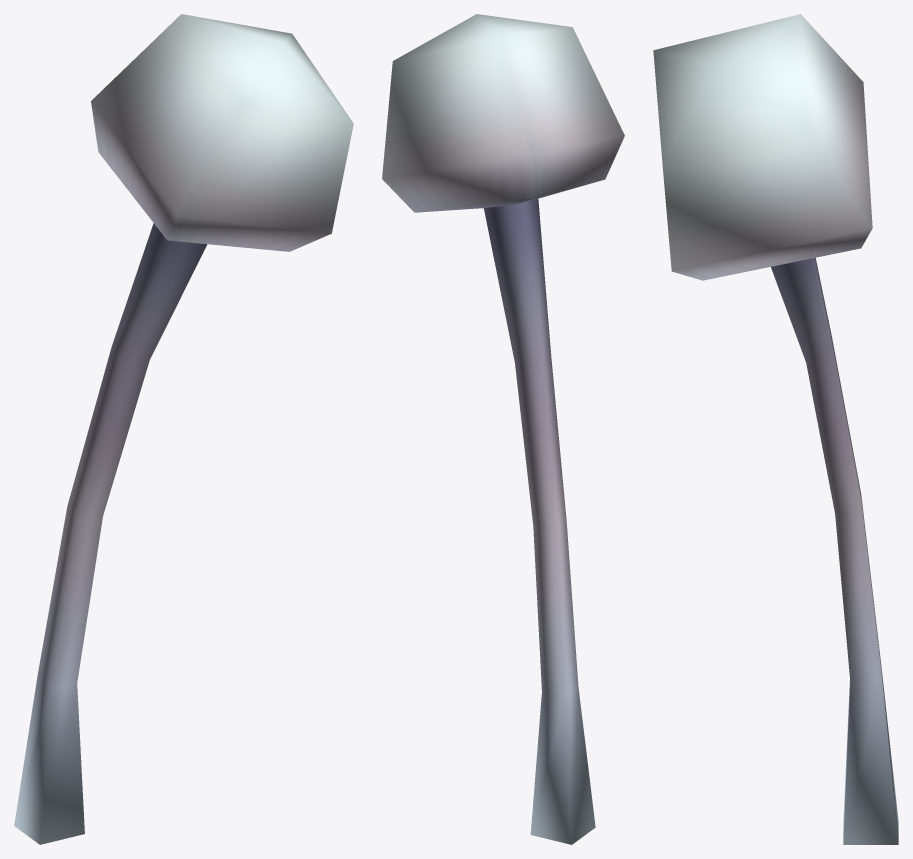
File: Shroom 2.FBX
3 renders of one model, left to right at view 1: azimuth 30°, elevation 25°; view 2: azimuth 150°, elevation 25°; view 3: azimuth 270°, elevation 25°, orthographic. The views are drawn at different scales.
Visible parts, largest first — view 1: shroom 4; view 2: shroom 4; view 3: shroom 4.
Part boxes in pixels (<box>): shroom 4: <box>14,14,353,844</box>; shroom 4: <box>382,14,624,844</box>; shroom 4: <box>653,14,898,844</box>.
Bounding box in the file's own units: 2.37 × 7.82 × 2.
